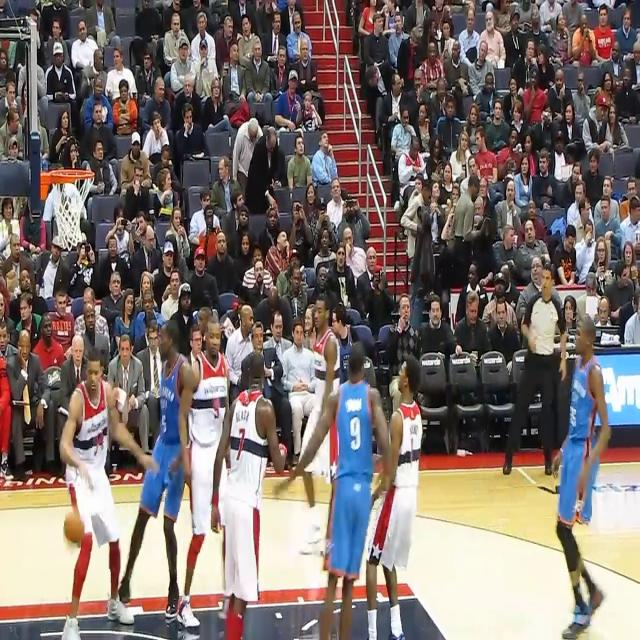ball: (63, 510, 85, 550)
